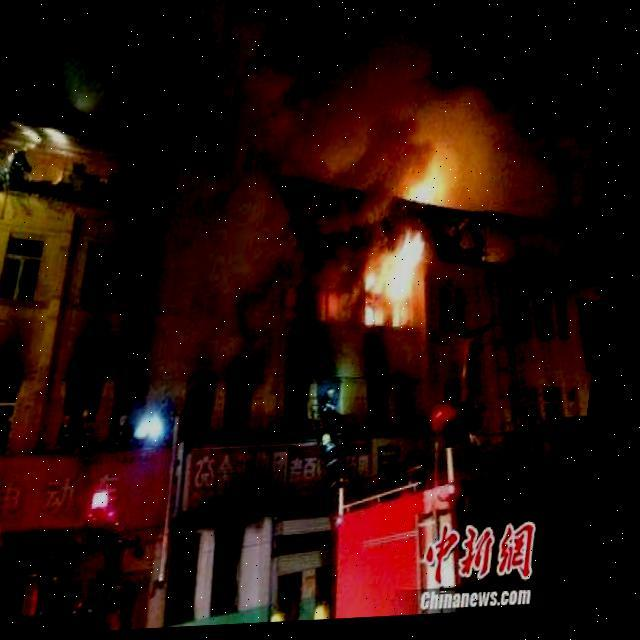Fire: (362, 232, 437, 333), (406, 153, 456, 213)
